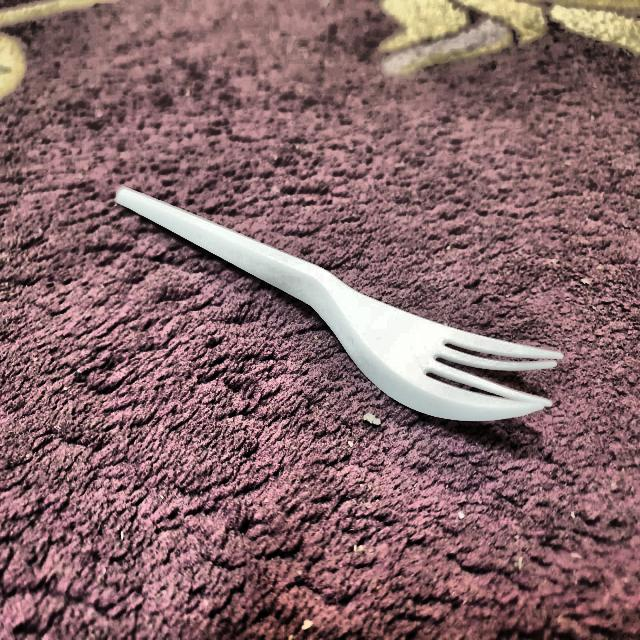plastic utensil: (112, 183, 567, 432)
